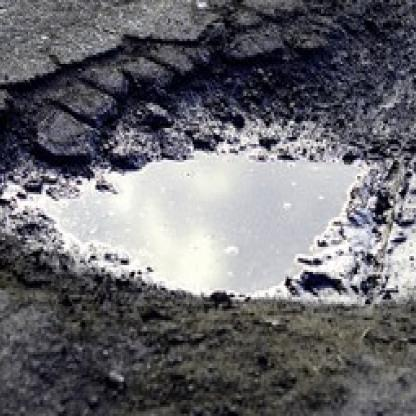pothole: (0, 0, 416, 327)
